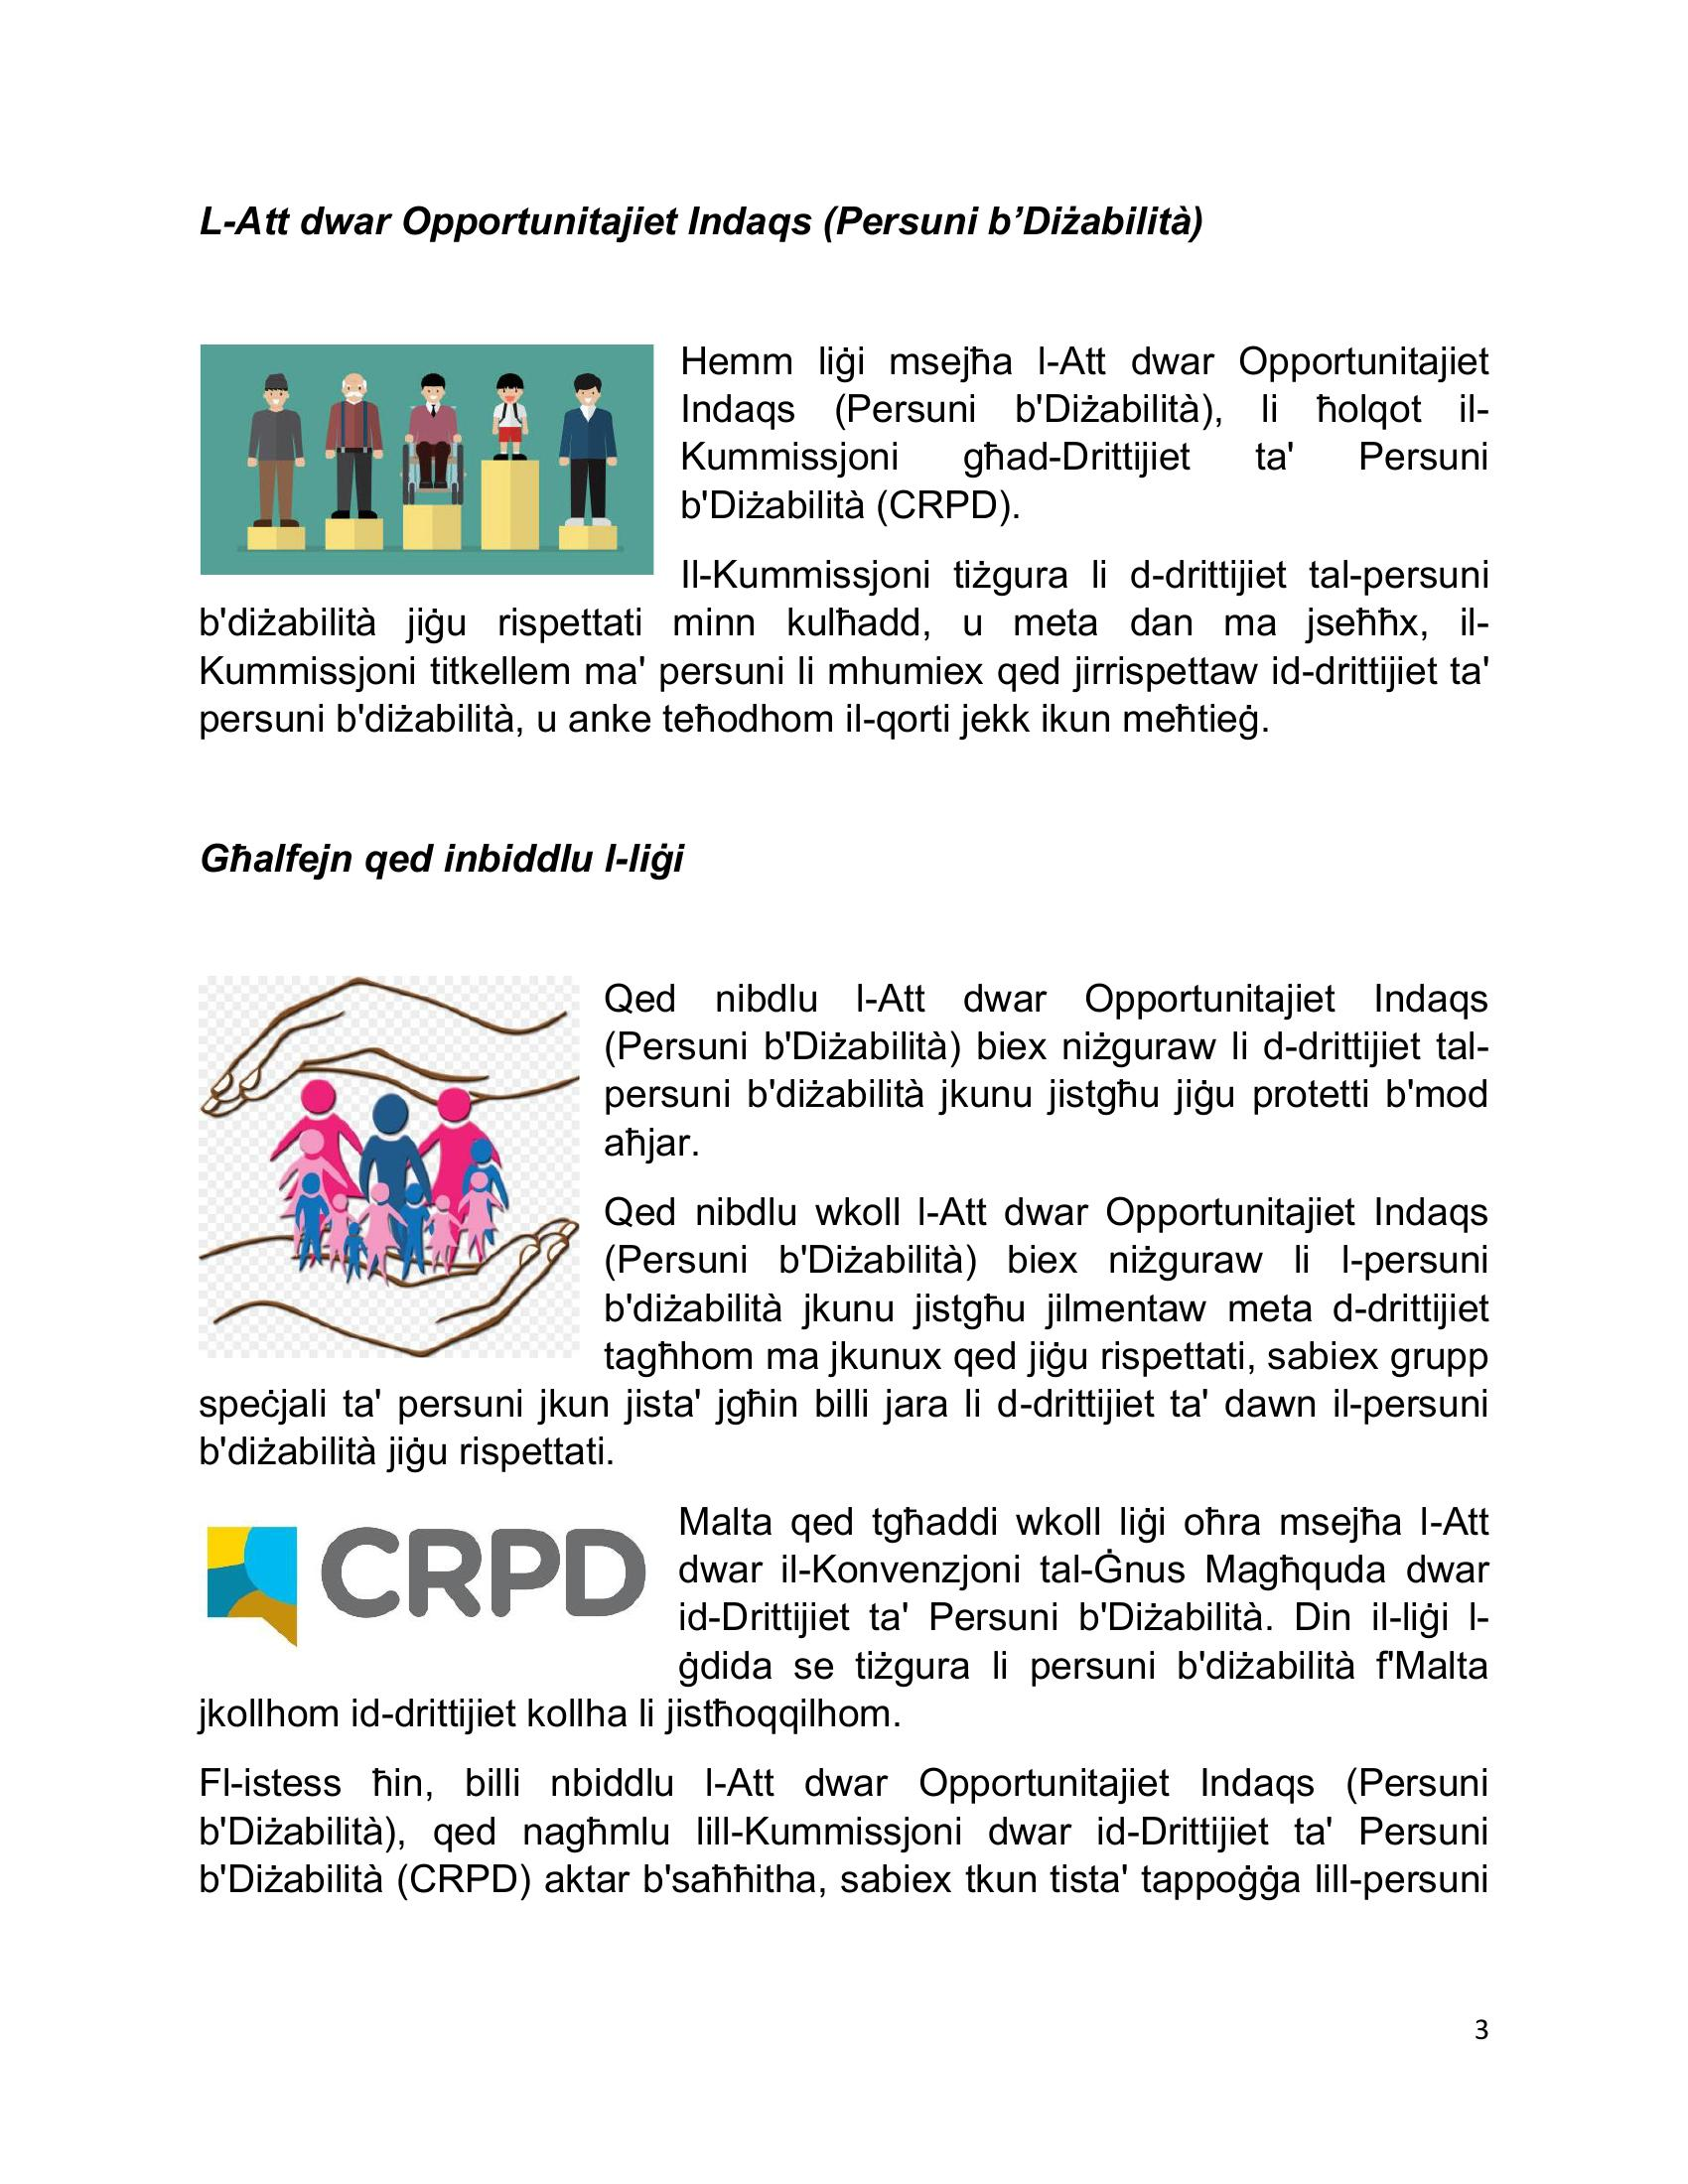text: (138, 170, 1516, 1943)
whiteout: (174, 957, 587, 1367), (176, 328, 665, 597), (188, 1503, 660, 1670)
